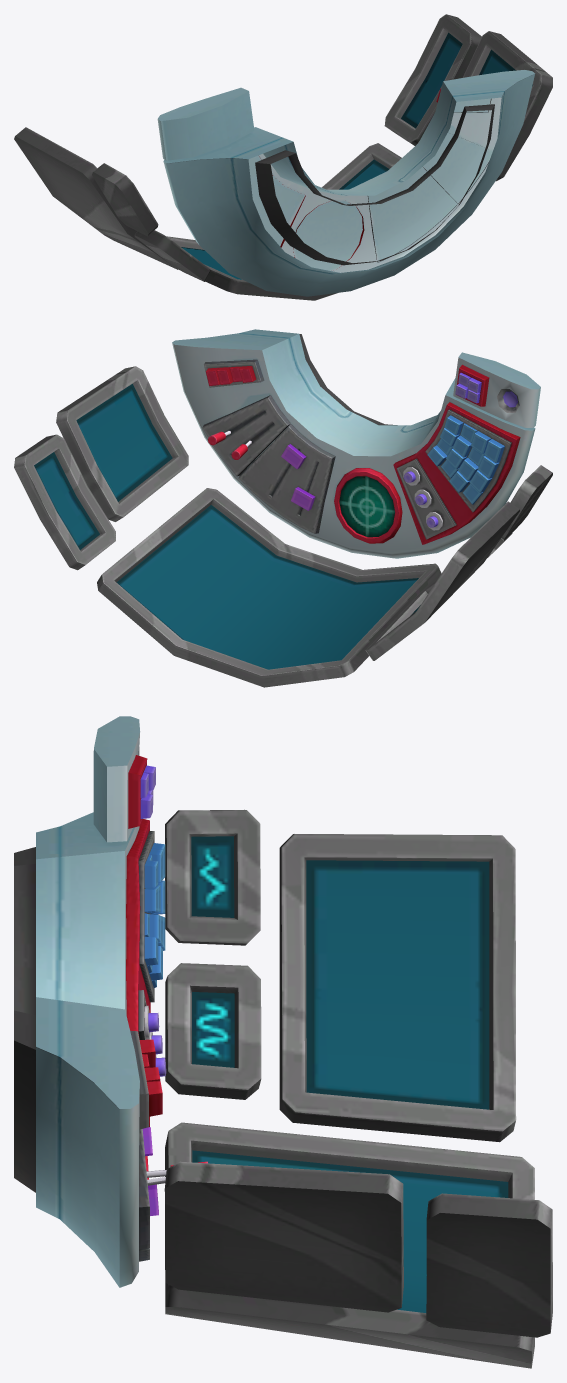
Rendered from CommandCenter.fbx.
The picture shows the model from 3 angles, top to bottom: view 1: azimuth 30°, elevation 25°; view 2: azimuth 150°, elevation 25°; view 3: azimuth 270°, elevation 25°; orthographic projection. The views are drawn at different scales.
Visible parts, largest first — view 1: CommandCenter; view 2: CommandCenter; view 3: CommandCenter.
Part boxes in pixels (<box>): CommandCenter: <box>14,14,552,300</box>; CommandCenter: <box>14,329,552,687</box>; CommandCenter: <box>14,716,552,1368</box>.
Size of the model in its own units: 240 by 138 by 142.
